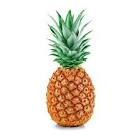Pineapple: (45, 9, 98, 129)
